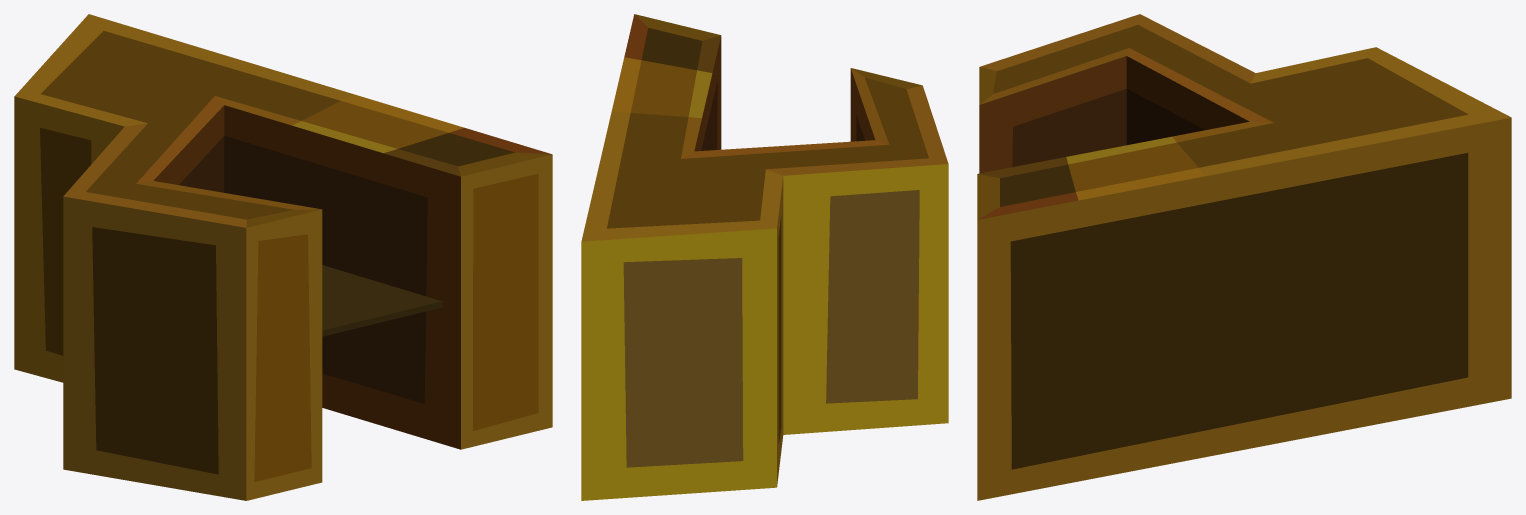
File: PenglantisArchwayGoldB.fbx
3 renders of one model, left to right at view 1: azimuth 30°, elevation 25°; view 2: azimuth 150°, elevation 25°; view 3: azimuth 270°, elevation 25°, orthographic. The views are drawn at different scales.
Visible parts, largest first — view 1: PenglantisArchwayGoldB; view 2: PenglantisArchwayGoldB; view 3: PenglantisArchwayGoldB.
Part boxes in pixels (x1,y1,x2,y2): PenglantisArchwayGoldB: (14,14,552,500); PenglantisArchwayGoldB: (581,14,948,500); PenglantisArchwayGoldB: (977,14,1511,500).
Size of the model in its own units: 53.65 by 34.13 by 58.85.
